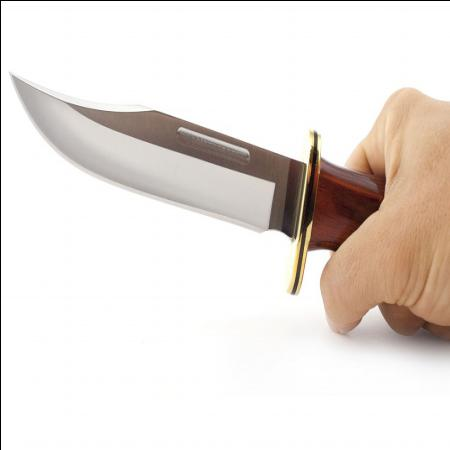long weapon: (4, 63, 406, 341)
